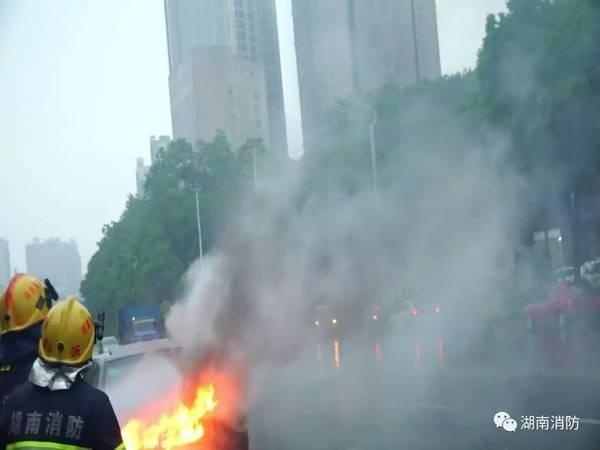fire: (120, 380, 219, 450)
